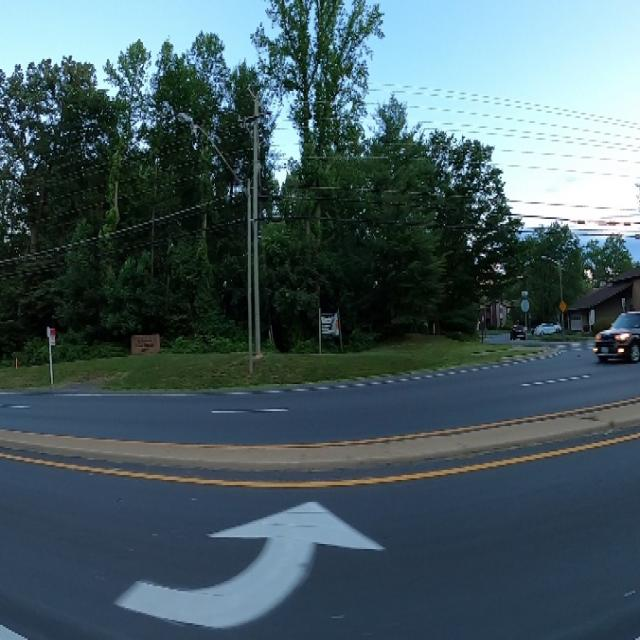car: (581, 295, 640, 365)
